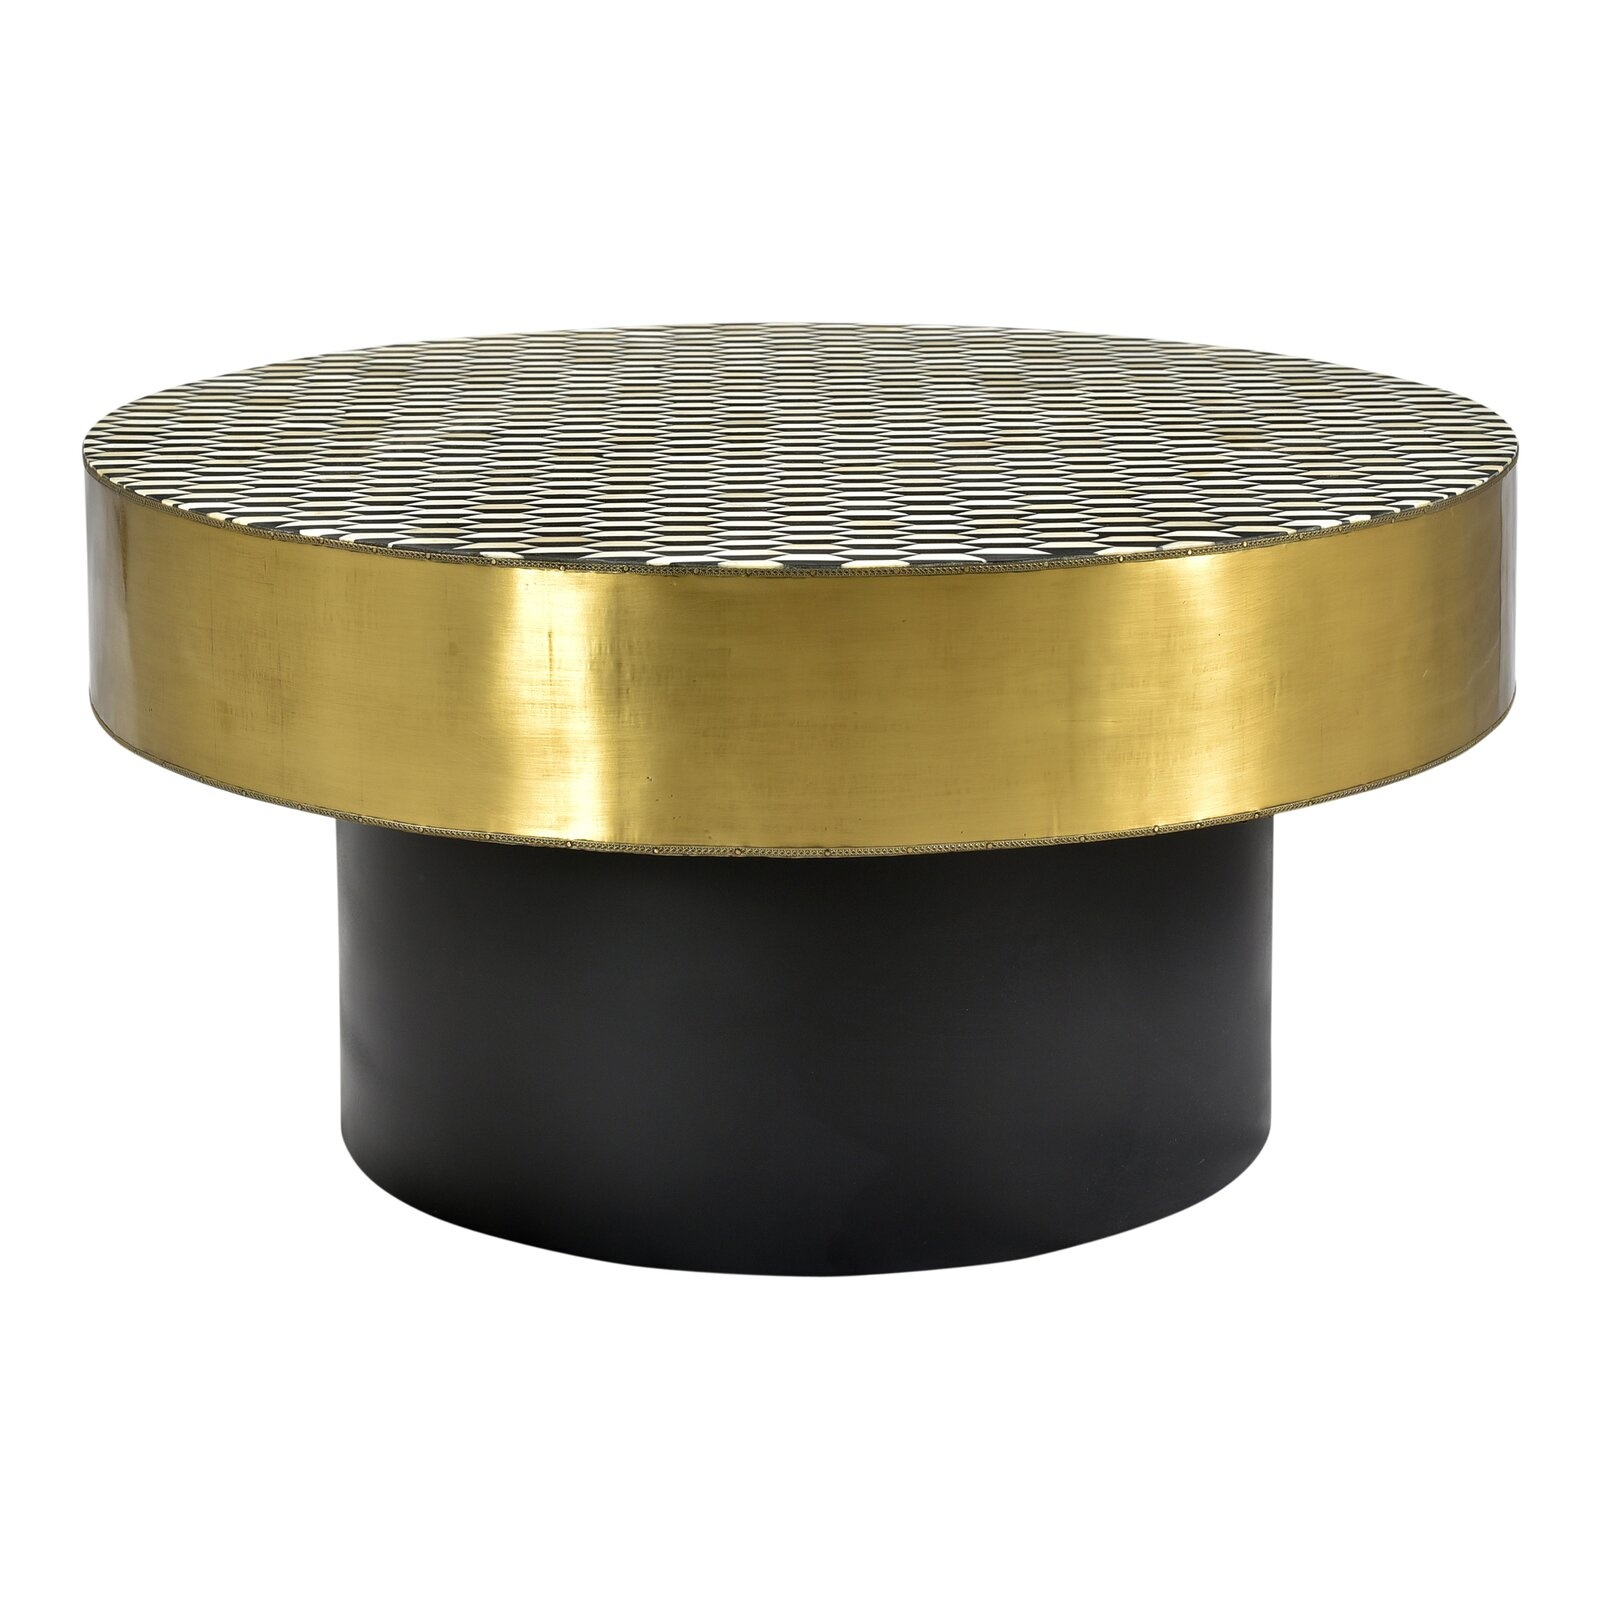obstacle: (84, 325, 1516, 1273)
